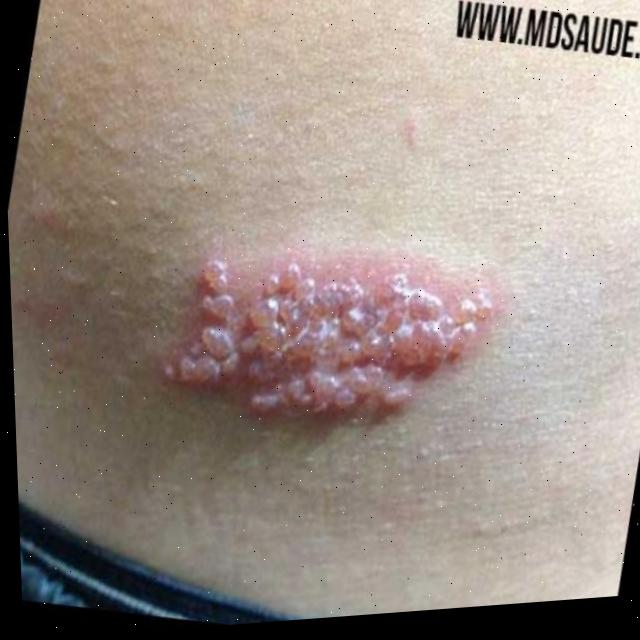Shingles: (151, 223, 503, 417)
